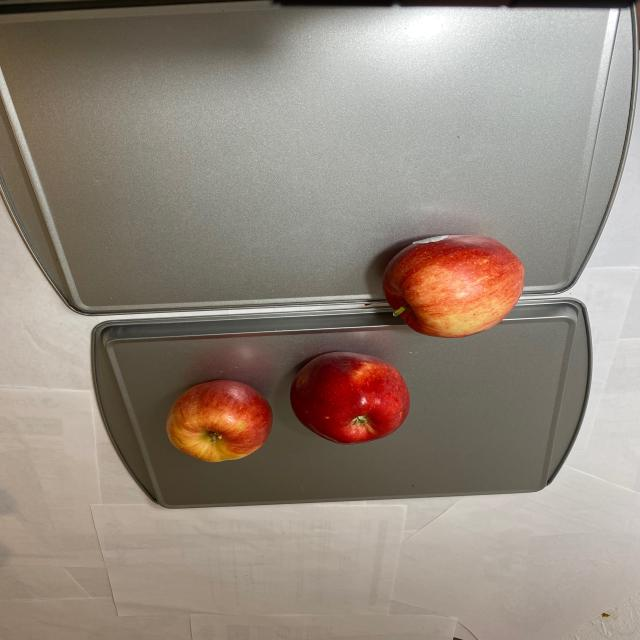apple: (168, 232, 525, 465)
